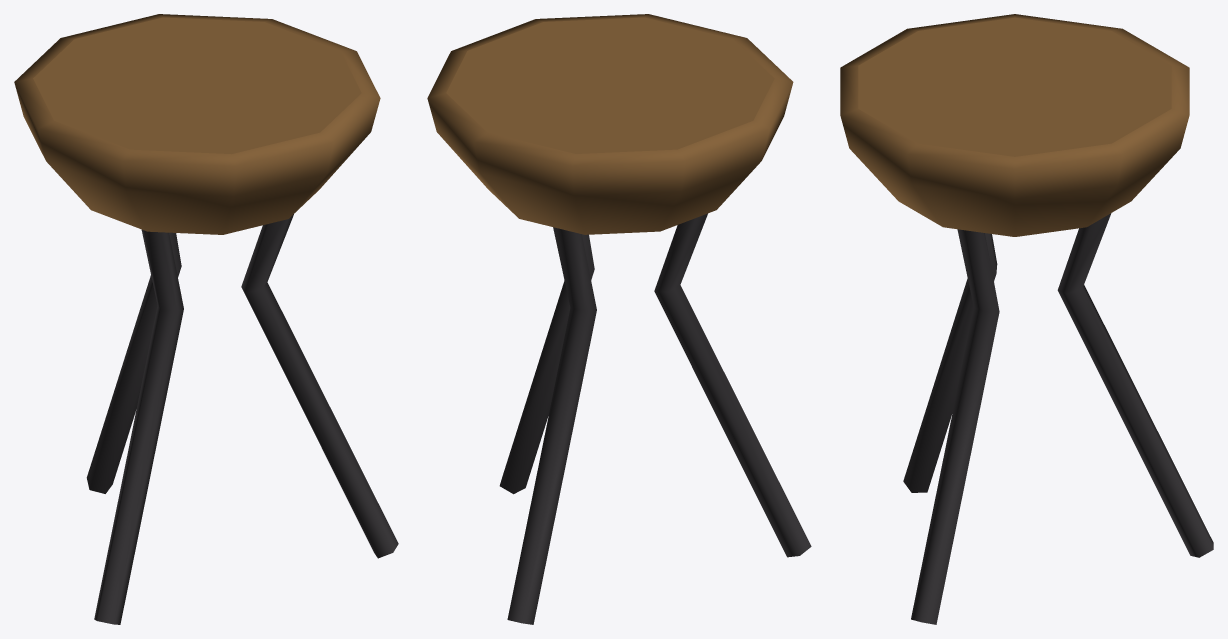
Rendered from brazier.glb.
3 views of the same model, side by side, from view 1: azimuth 30°, elevation 25°; view 2: azimuth 150°, elevation 25°; view 3: azimuth 270°, elevation 25° (orthographic).
Visible parts, largest first — view 1: brazier; view 2: brazier; view 3: brazier.
Boxes of the visible parts, bbox=[...] form: brazier: bbox=[14, 14, 398, 624]; brazier: bbox=[427, 14, 811, 624]; brazier: bbox=[840, 14, 1213, 624].
Size of the model in its own units: 0.78 by 1.1 by 0.793.
